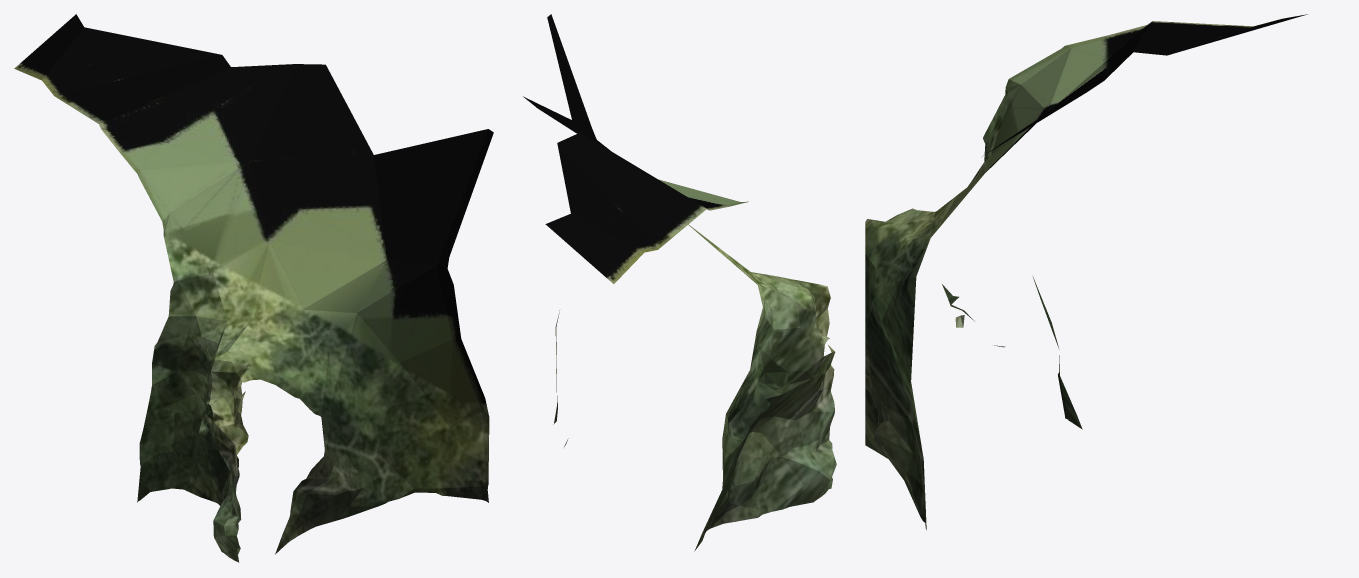
3 views of the same model, side by side, from view 1: azimuth 30°, elevation 25°; view 2: azimuth 150°, elevation 25°; view 3: azimuth 270°, elevation 25° (orthographic). The views are drawn at different scales.
Size of the model in its own units: 8.64 by 11.8 by 11.8.
Materials: 3 (3 with a texture image).
